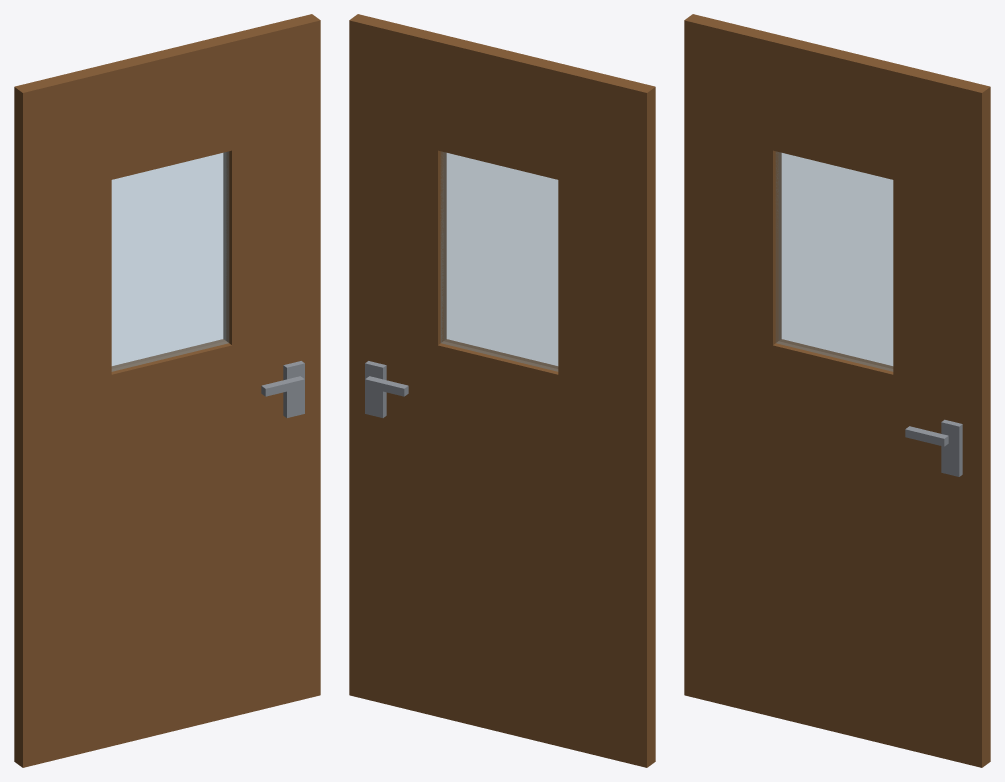
The model's file is SM_Door_classroom_100x215.fbx.
3 views of the same model, side by side, from view 1: azimuth 30°, elevation 25°; view 2: azimuth 150°, elevation 25°; view 3: azimuth 330°, elevation 25° (orthographic).
Visible parts, largest first — view 1: SM_Door_classroom_100x215; view 2: SM_Door_classroom_100x215; view 3: SM_Door_classroom_100x215.
Part boxes in pixels (box(x1,y1,x2,y2)): SM_Door_classroom_100x215: box(14, 14, 320, 767); SM_Door_classroom_100x215: box(349, 14, 655, 767); SM_Door_classroom_100x215: box(684, 14, 990, 767).
Bounding box in the file's own units: 0.988 × 2.14 × 0.175.
